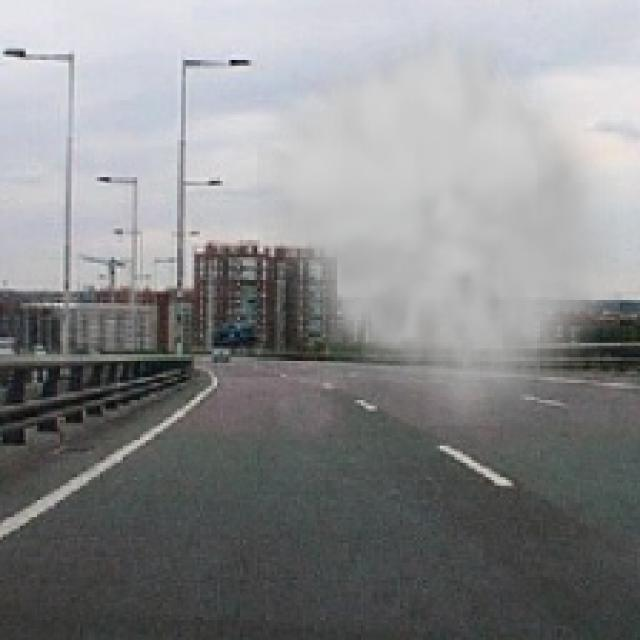Smoke: (257, 6, 620, 426)
